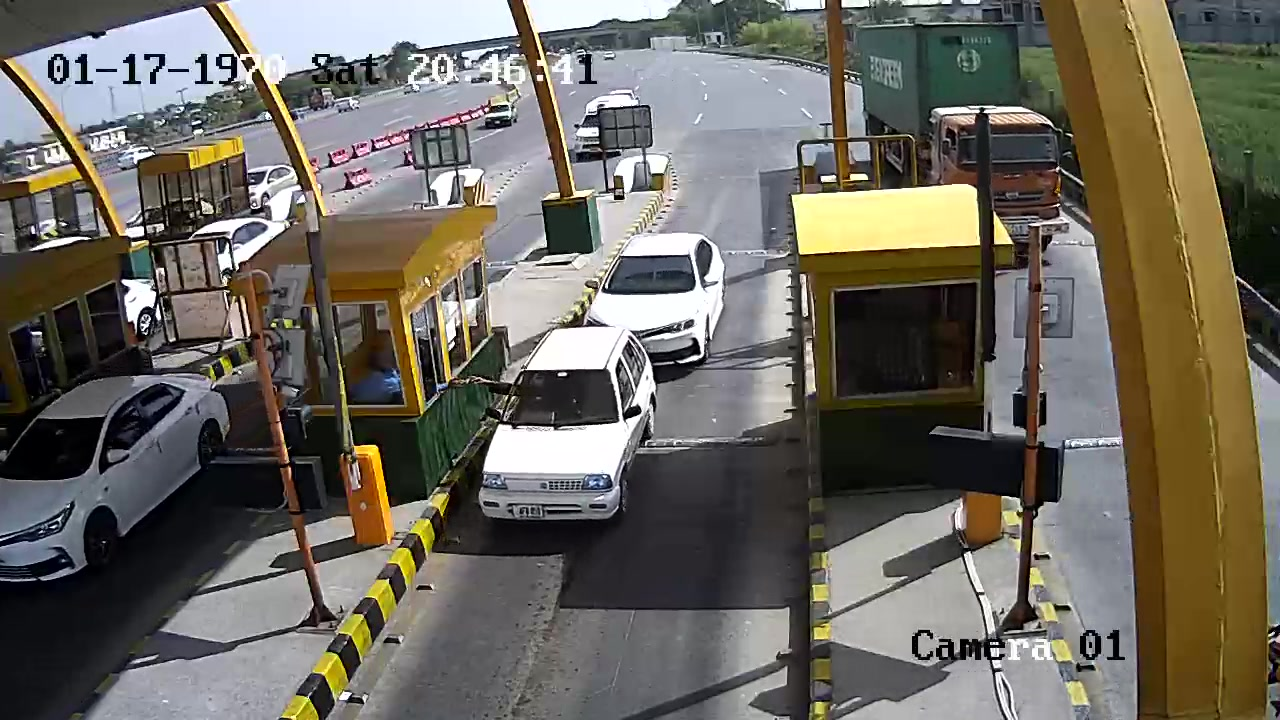F1: (477, 318, 660, 534)
